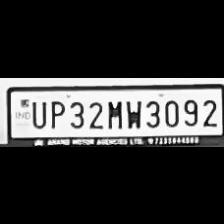0: (160, 96, 180, 126)
2: (198, 94, 218, 125), (86, 97, 104, 129)
3: (66, 97, 86, 129), (142, 96, 160, 128)
9: (180, 94, 198, 125)
M: (104, 97, 122, 129)
P: (46, 96, 64, 128)
U: (28, 96, 46, 128)
W: (124, 96, 142, 128)
